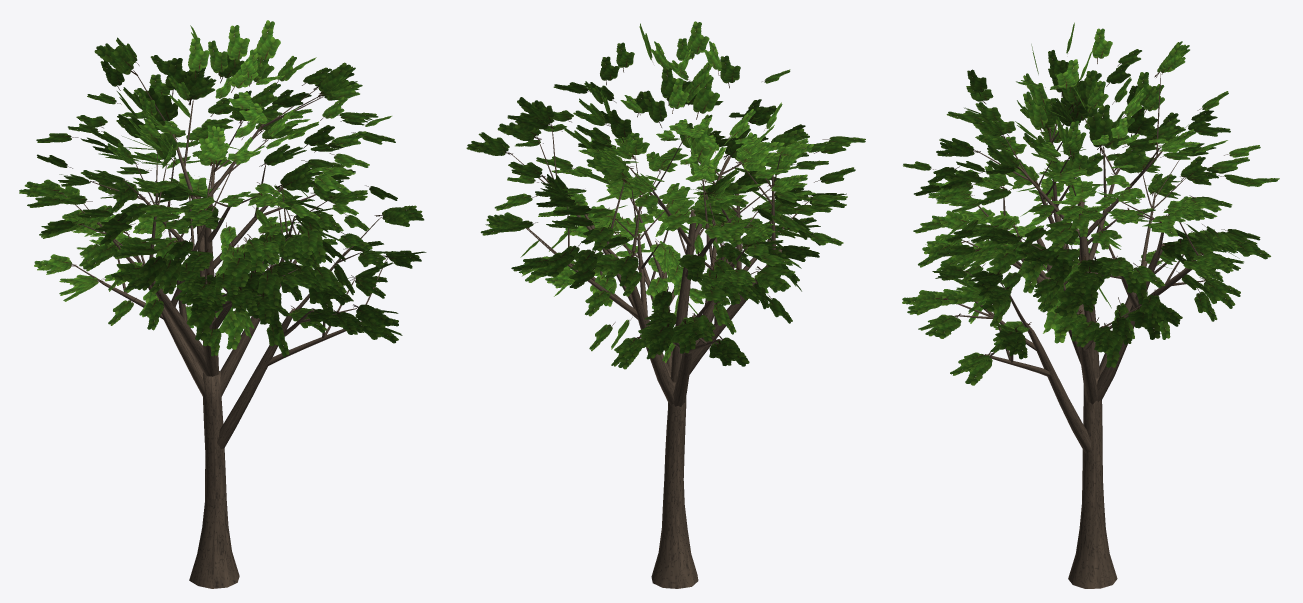
File: park_linden.glb
3 renders of one model, left to right at view 1: azimuth 30°, elevation 25°; view 2: azimuth 150°, elevation 25°; view 3: azimuth 270°, elevation 25°, orthographic. The views are drawn at different scales.
Visible parts, largest first — view 1: park_linden; view 2: park_linden; view 3: park_linden.
Boxes of the visible parts, x1,y1,x2,y2 form: park_linden: [19, 20, 426, 588]; park_linden: [466, 21, 865, 588]; park_linden: [902, 22, 1279, 588].
Bounding box in the file's own units: 8.94 × 13.3 × 8.69.
Materials: 2 (2 with a texture image).
